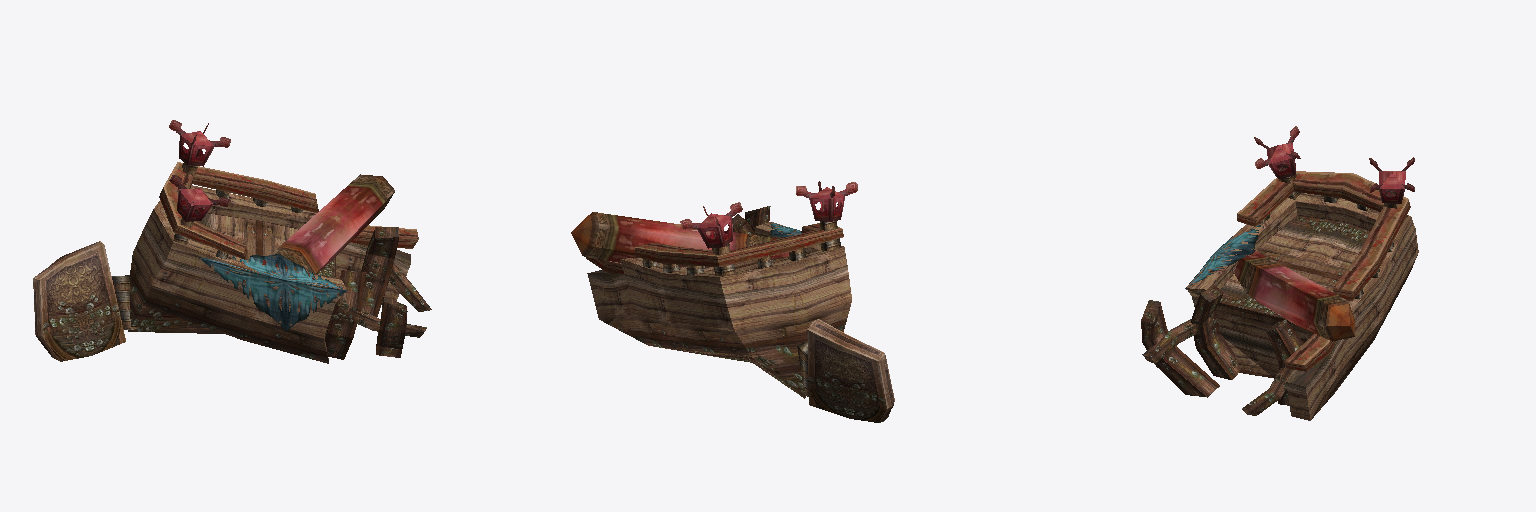
3 renders of one model, left to right at view 1: azimuth 30°, elevation 25°; view 2: azimuth 150°, elevation 25°; view 3: azimuth 270°, elevation 25°, orthographic.
Visible parts, largest first — view 1: ElvenDestroyerWreckBack; view 2: ElvenDestroyerWreckBack; view 3: ElvenDestroyerWreckBack.
Boxes of the visible parts, <box> form: ElvenDestroyerWreckBack: <box>33,120,431,363</box>; ElvenDestroyerWreckBack: <box>571,181,894,422</box>; ElvenDestroyerWreckBack: <box>1141,126,1418,420</box>.
Bounding box in the file's own units: 24.73 × 12.93 × 17.18.
Materials: 8 (8 with a texture image).